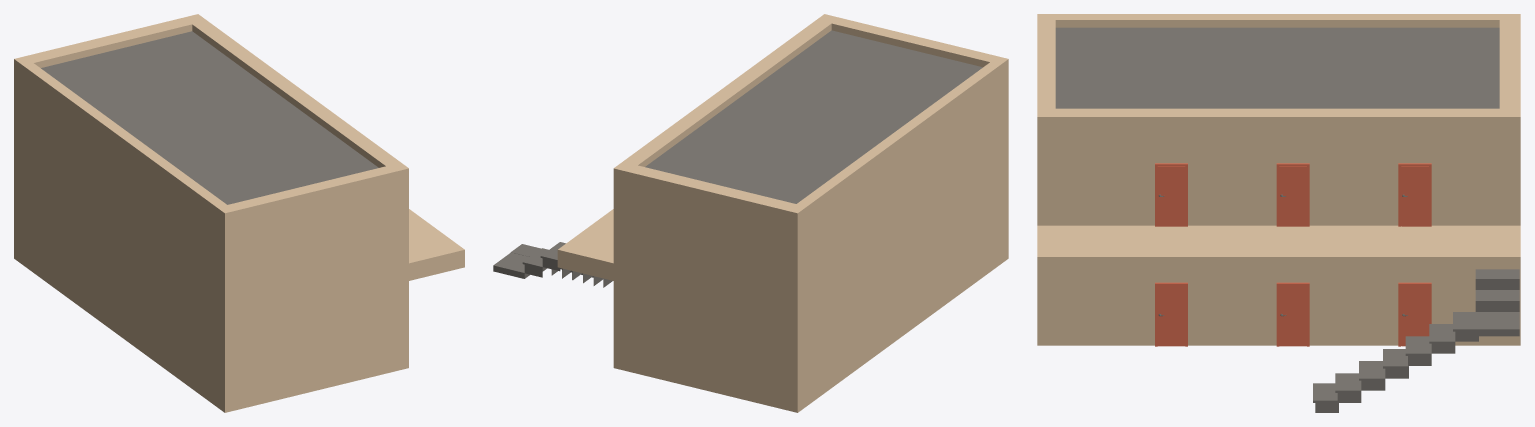
File: ApartmentSmall.fbx
The picture shows the model from 3 angles, left to right: view 1: azimuth 30°, elevation 25°; view 2: azimuth 150°, elevation 25°; view 3: azimuth 270°, elevation 25°; orthographic projection. The views are drawn at different scales.
Parts seen in each view (by area): view 1: Cube, Cube.001; view 2: Cube, Cube.001, Stairs.003; view 3: Cube, Cube.001, Stairs.003, Door, Door.001.
Part boxes in pixels (<box>): Cube: <box>14,14,464,412</box>; Cube.001: <box>41,31,378,204</box>; Cube: <box>557,14,1008,412</box>; Cube.001: <box>645,30,982,203</box>; Stairs.003: <box>493,242,612,287</box>; Cube: <box>1037,14,1520,345</box>; Cube.001: <box>1055,27,1499,108</box>; Stairs.003: <box>1313,269,1519,412</box>; Door: <box>1155,163,1431,226</box>; Door.001: <box>1155,282,1431,346</box>.
Bounding box in the file's own units: 166 × 104 × 198.
